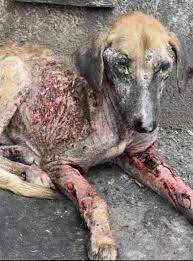infection: (25, 64, 95, 166)
